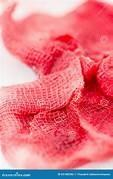cotton: (0, 1, 112, 168)
